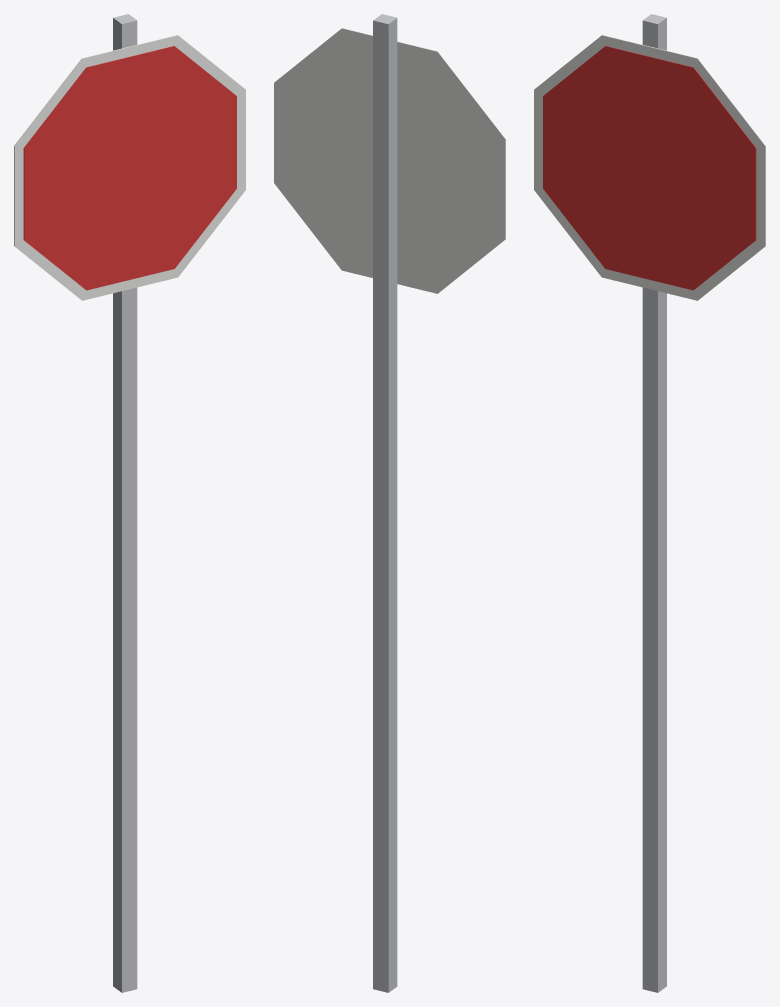
The model's file is street_sign.glb.
3 renders of one model, left to right at view 1: azimuth 30°, elevation 25°; view 2: azimuth 150°, elevation 25°; view 3: azimuth 330°, elevation 25°, orthographic.
Parts seen in each view (by area): view 1: sign_red, post, sign_white; view 2: sign_white, post; view 3: sign_red, post, sign_white.
Part boxes in pixels (x1,y1,x2,y2): sign_red: (23,46,236,290); post: (113,14,137,992); sign_white: (14,35,245,300); sign_white: (274,28,505,293); post: (373,14,397,992); sign_red: (543,46,756,290); post: (642,14,666,992); sign_white: (534,35,765,300).
Bounding box in the file's own units: 0.75 × 3 × 0.055.
